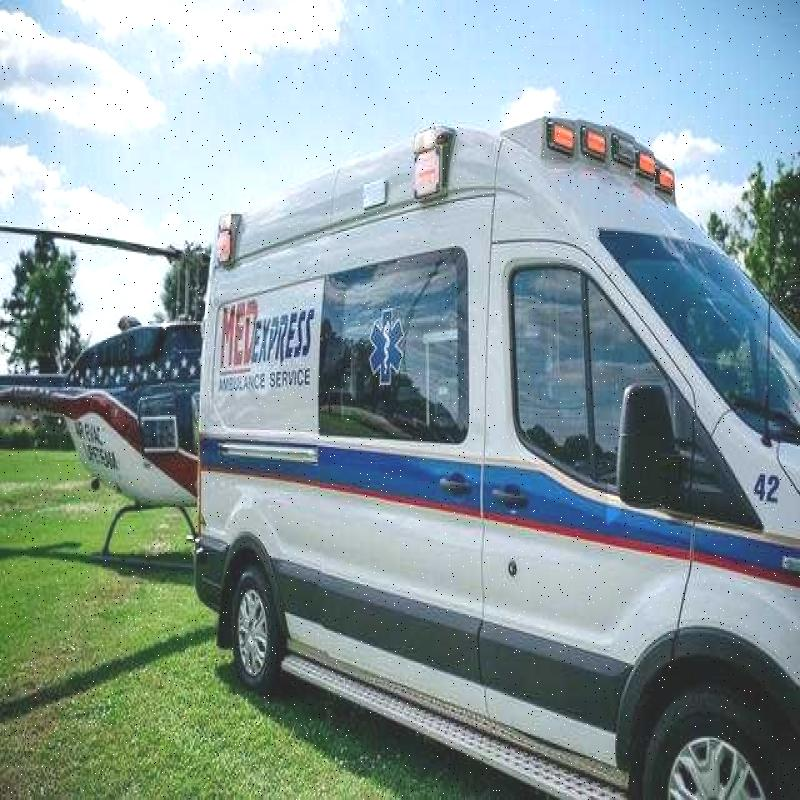AmbulanceSiren: (547, 99, 684, 202)
